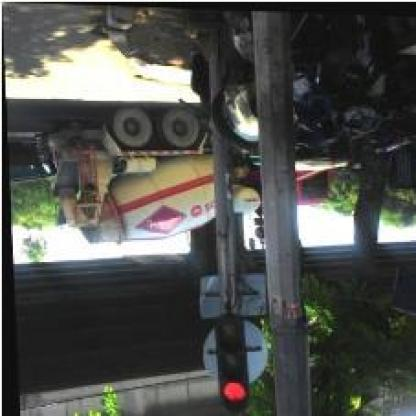red: (211, 316, 247, 410)
